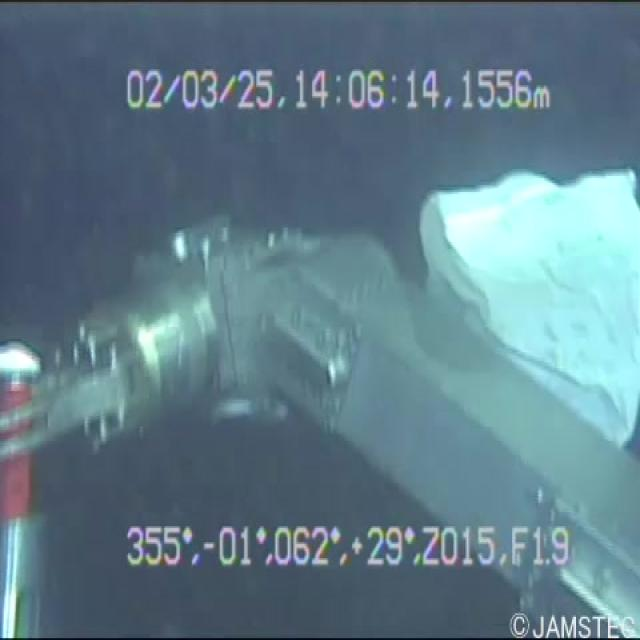plastic: (420, 132, 639, 471)
